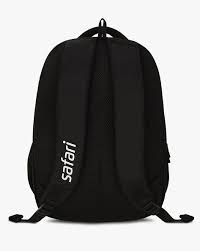backpack: (8, 17, 194, 224)
